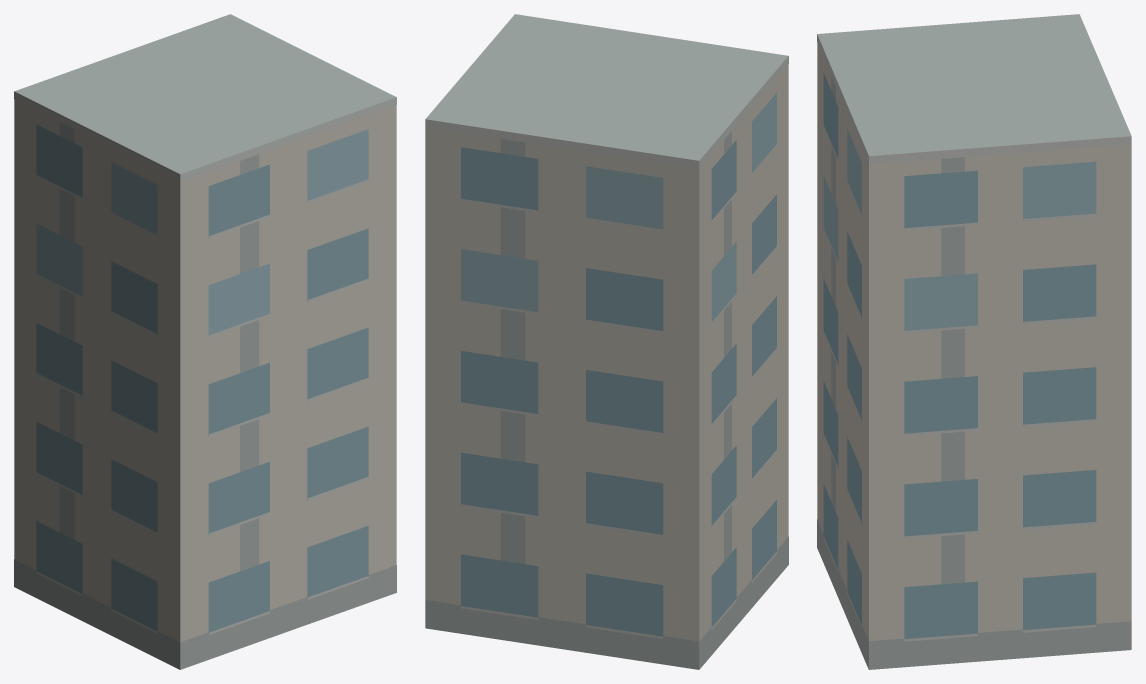
The model's file is residential-67704e56-60c1-49f9-b0da-eaae5383121f.glb.
3 views of the same model, side by side, from view 1: azimuth 30°, elevation 25°; view 2: azimuth 150°, elevation 25°; view 3: azimuth 270°, elevation 25° (orthographic). The views are drawn at different scales.
Visible parts, largest first — view 1: residential-67704e56-60c1-49f9-b0da-eaae5383121f.tmp; view 2: residential-67704e56-60c1-49f9-b0da-eaae5383121f.tmp; view 3: residential-67704e56-60c1-49f9-b0da-eaae5383121f.tmp.
Boxes of the visible parts, left/top/right/bottom form: residential-67704e56-60c1-49f9-b0da-eaae5383121f.tmp: left=14, top=14, right=396, bottom=669; residential-67704e56-60c1-49f9-b0da-eaae5383121f.tmp: left=425, top=14, right=788, bottom=669; residential-67704e56-60c1-49f9-b0da-eaae5383121f.tmp: left=817, top=14, right=1131, bottom=669.
Bounding box in the file's own units: 9.06 × 15.25 × 8.47.
